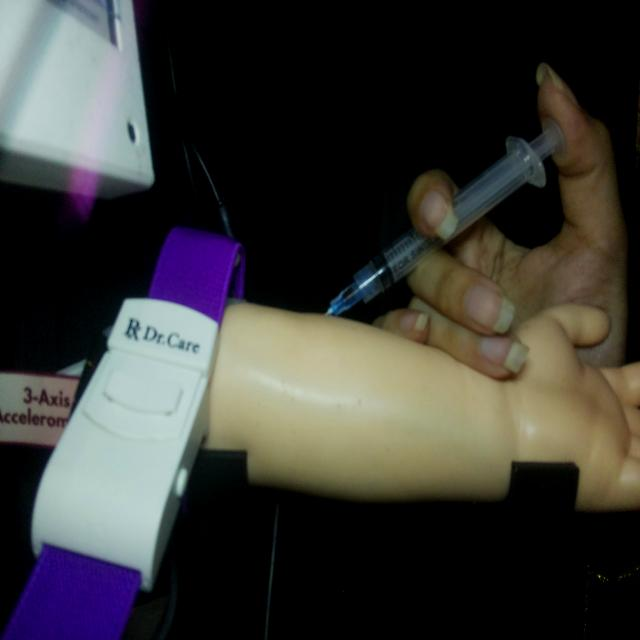27 degrees: (323, 115, 566, 320)
